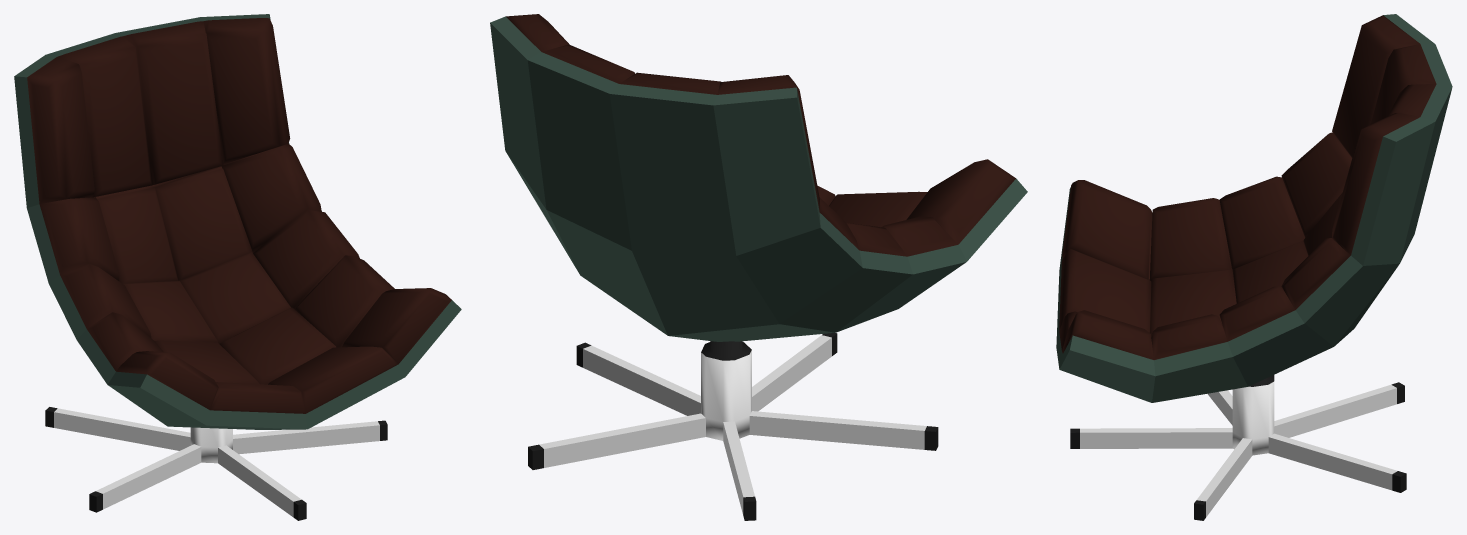
The model's file is sillonB.fbx.
3 renders of one model, left to right at view 1: azimuth 30°, elevation 25°; view 2: azimuth 150°, elevation 25°; view 3: azimuth 270°, elevation 25°, orthographic. The views are drawn at different scales.
Visible parts, largest first — view 1: SillonB; view 2: SillonB; view 3: SillonB.
Boxes of the visible parts, box(x1,y1,x2,y2) form: SillonB: box(14, 14, 461, 520); SillonB: box(490, 14, 1027, 520); SillonB: box(1056, 14, 1452, 520).
Bounding box in the file's own units: 139 × 150 × 144.
